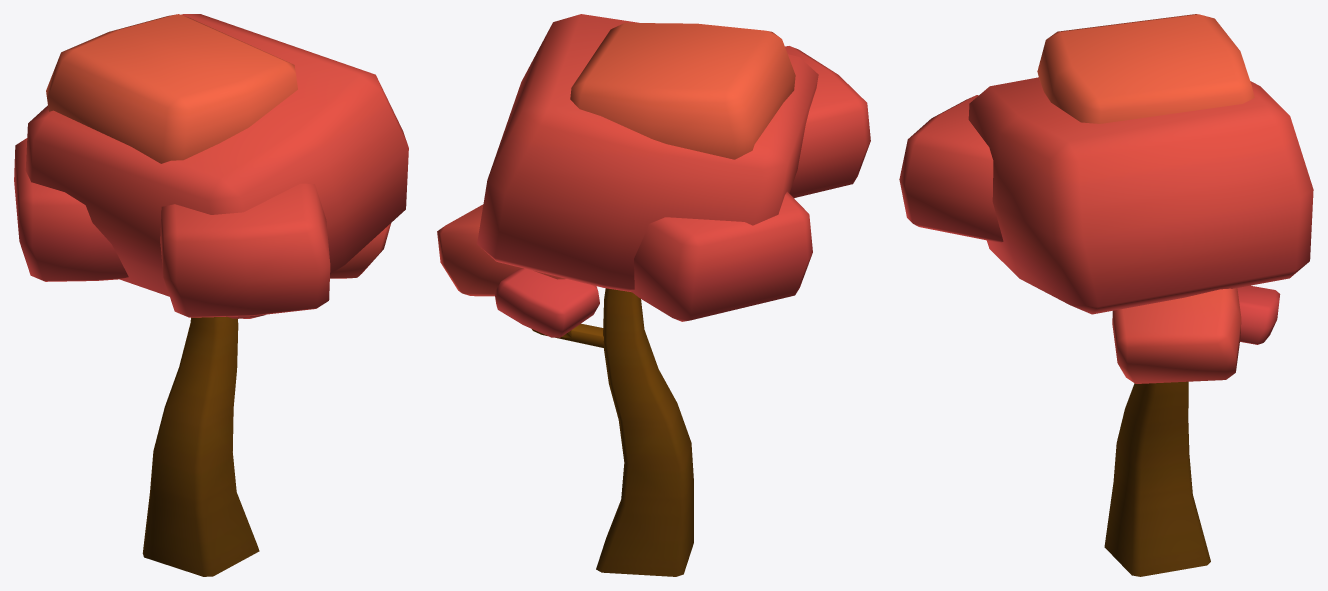
Rendered from Tree_E_6_.fbx.
The picture shows the model from 3 angles, left to right: view 1: azimuth 30°, elevation 25°; view 2: azimuth 150°, elevation 25°; view 3: azimuth 270°, elevation 25°; orthographic projection. The views are drawn at different scales.
Visible parts, largest first — view 1: Tree_E_6; view 2: Tree_E_6; view 3: Tree_E_6.
Part boxes in pixels (<box>): Tree_E_6: <box>14,14,408,576</box>; Tree_E_6: <box>437,14,870,576</box>; Tree_E_6: <box>899,14,1313,576</box>.
Size of the model in its own units: 286 by 399 by 305.
